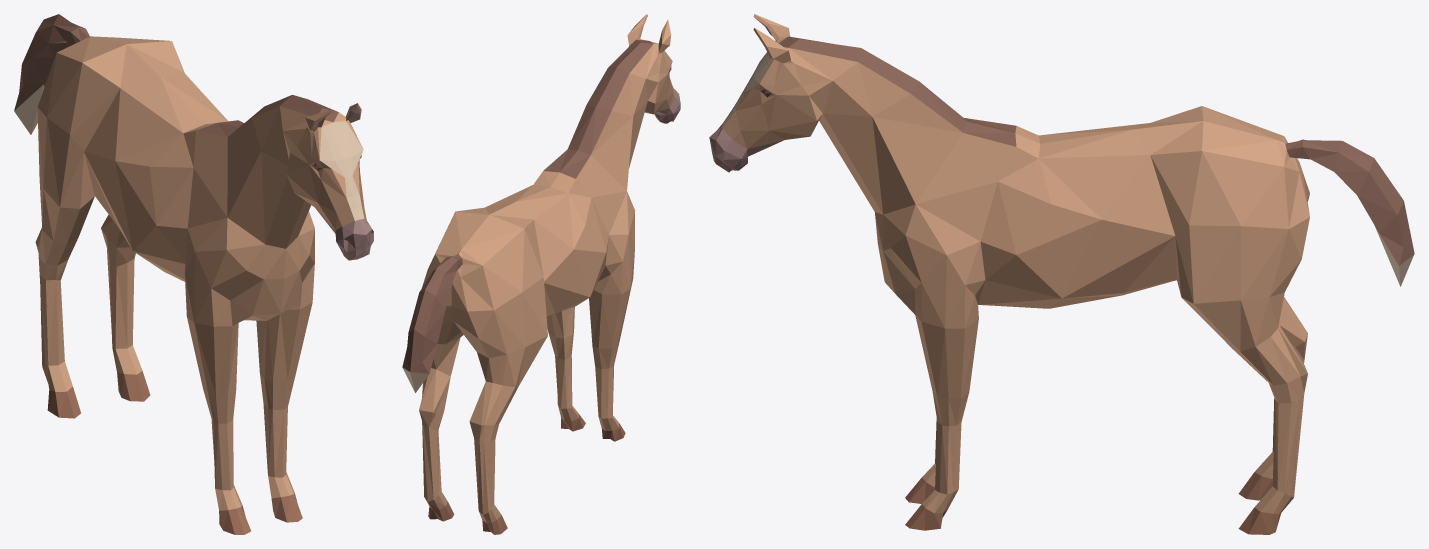
The model's file is quadruped_horse.gltf.
3 views of the same model, side by side, from view 1: azimuth 30°, elevation 25°; view 2: azimuth 150°, elevation 25°; view 3: azimuth 270°, elevation 25° (orthographic). The views are drawn at different scales.
Visible parts, largest first — view 1: horse_colorMap; view 2: horse_colorMap; view 3: horse_colorMap.
Part boxes in pixels (x1,y1,x2,y2): horse_colorMap: (14,14,373,534); horse_colorMap: (402,14,680,534); horse_colorMap: (709,14,1414,534).
Bounding box in the file's own units: 63.87 × 204 × 265.
